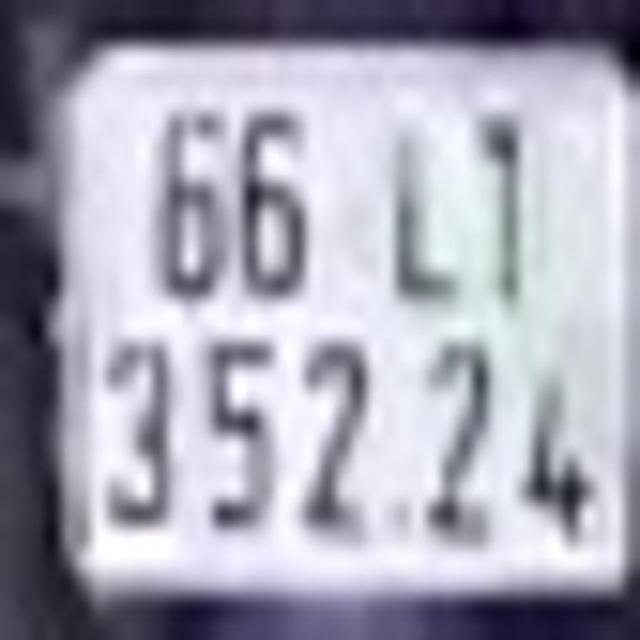1: (475, 102, 535, 310)
2: (411, 324, 501, 551), (293, 324, 375, 543)
3: (96, 324, 173, 538)
4: (514, 325, 601, 554)
5: (194, 319, 281, 532)
6: (145, 97, 235, 306), (238, 103, 312, 308)
L: (382, 96, 468, 301)
